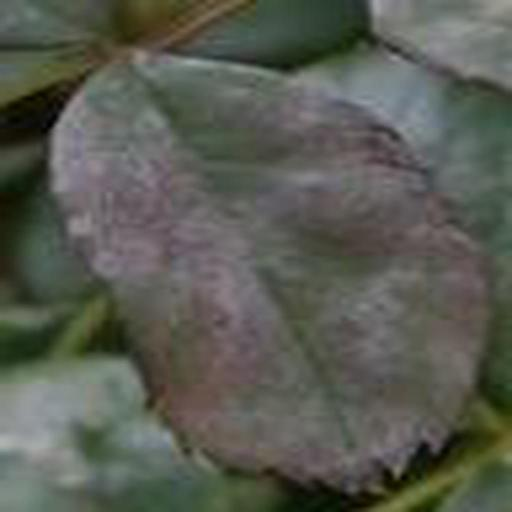powdery_mildew: (50, 52, 488, 488)
